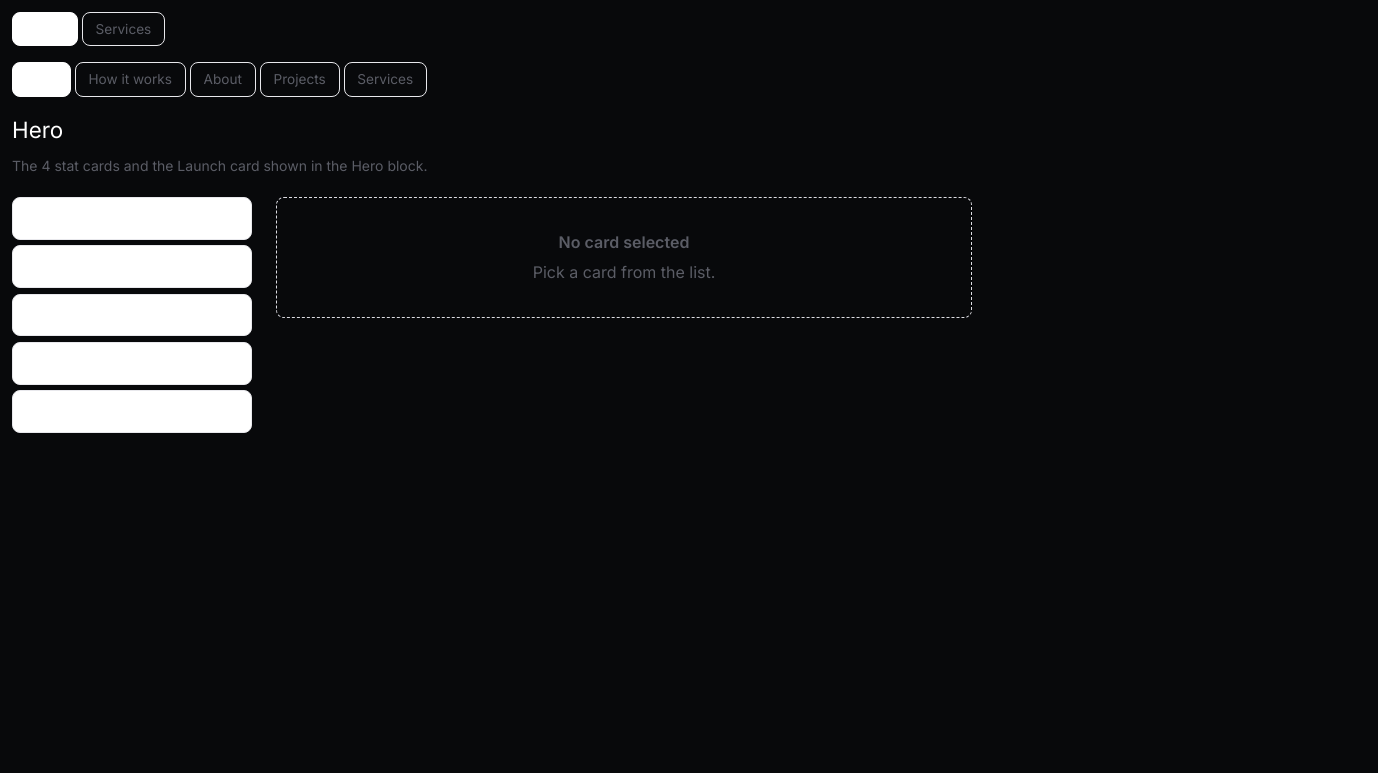
CardsPage › resets the /services group when switching pages and back
Click the 1st tab "Services": coordinates (123, 29) [82,12,165,46]
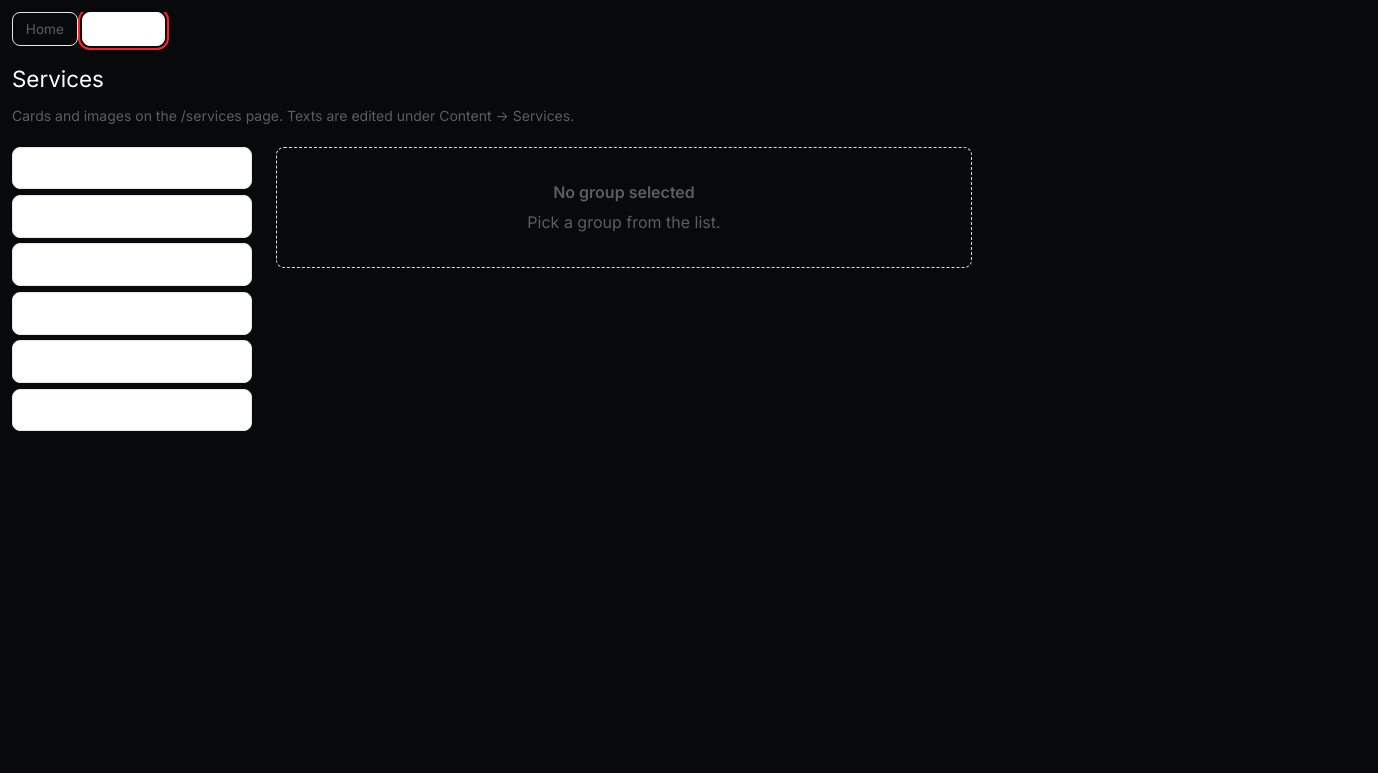
Click the button "Google Ads": coordinates (132, 410) [12,389,252,431]
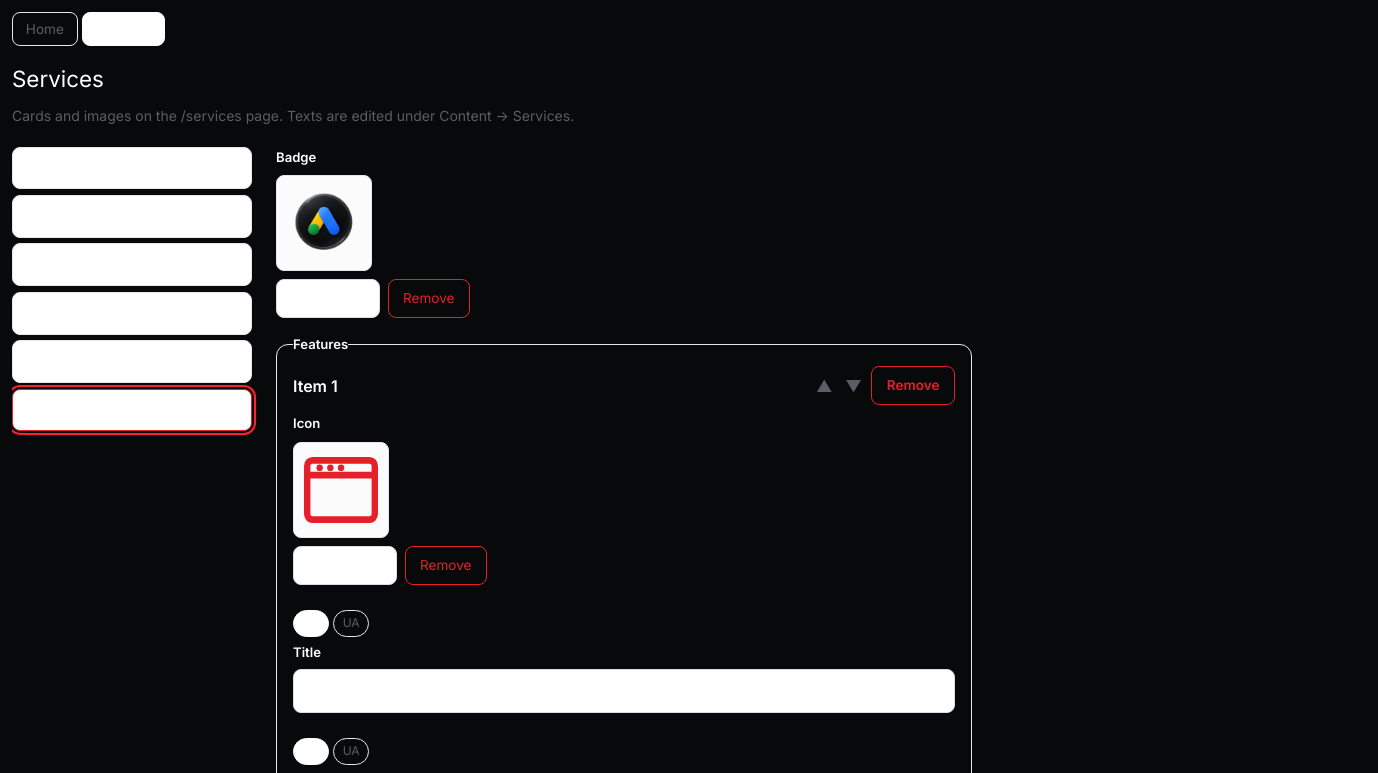
Check: the text "Badge" is shown, box [276,149,316,165]
Click the tab "Home": coordinates (45, 29) [12,12,78,46]
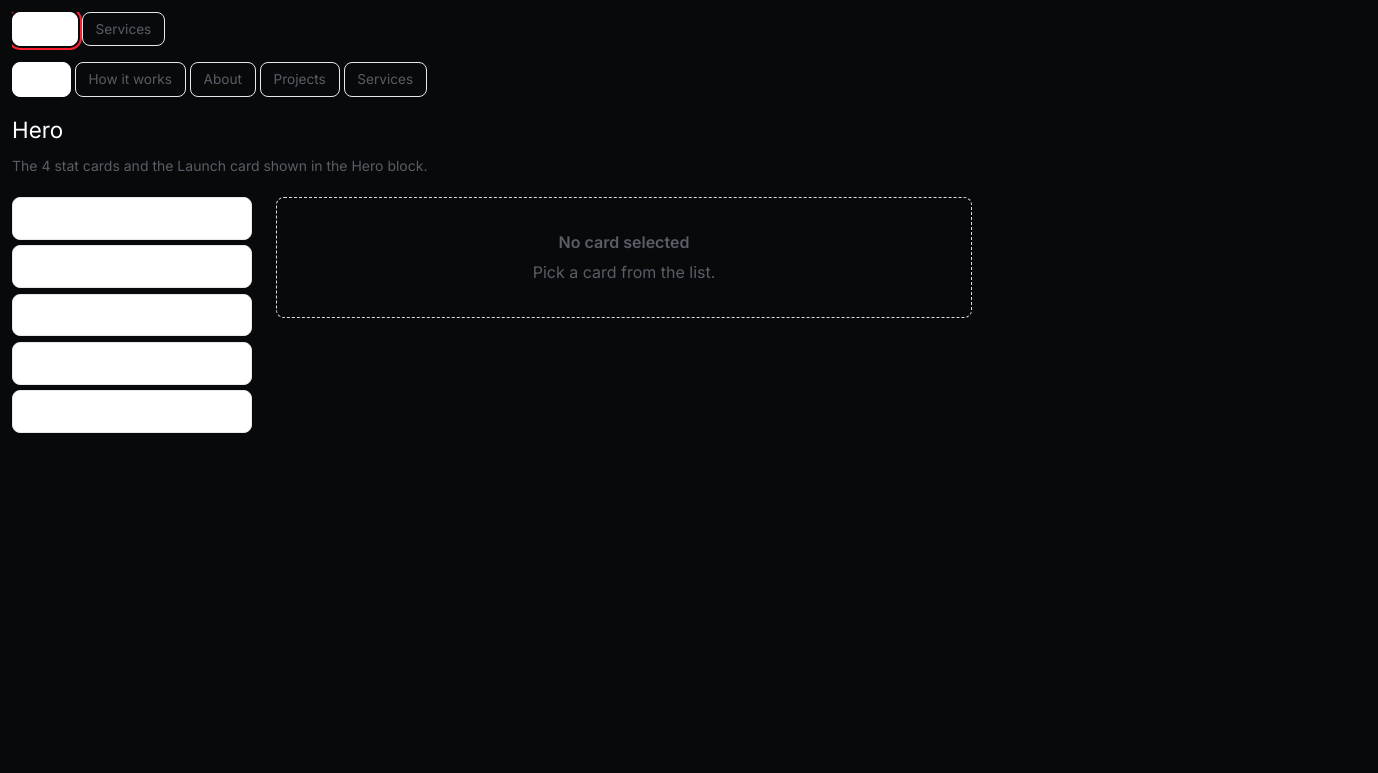
Click the 1st tab "Services": coordinates (123, 29) [82,12,165,46]
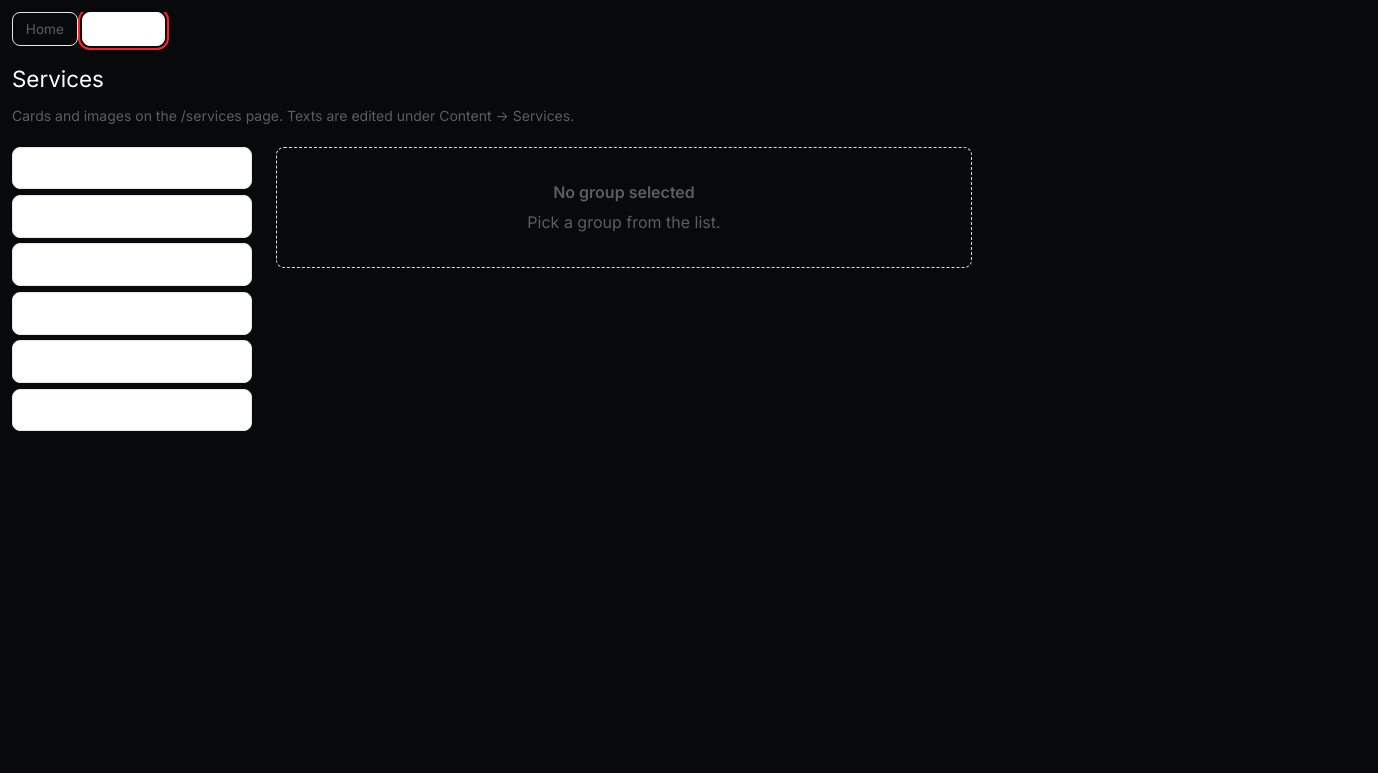
Check: the text "Badge" is not shown
Check: the text "No group selected" is shown, box [553,182,695,202]
